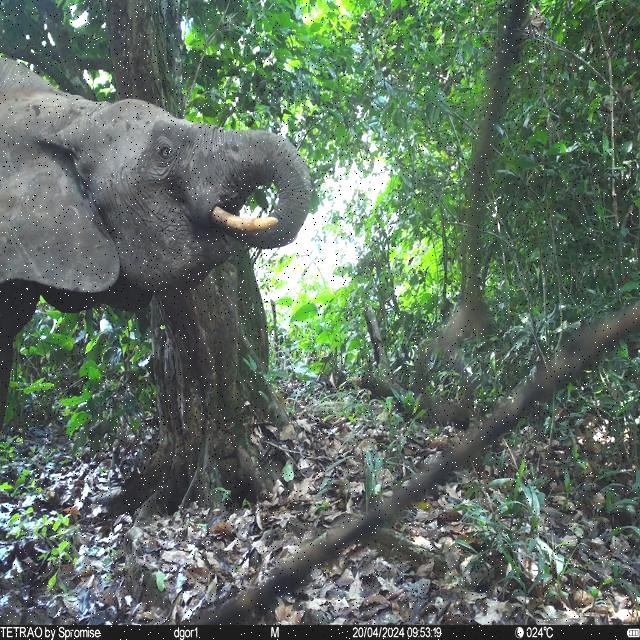ear: (0, 102, 124, 295)
elephant: (0, 55, 313, 433)
tusk: (208, 204, 279, 232)
